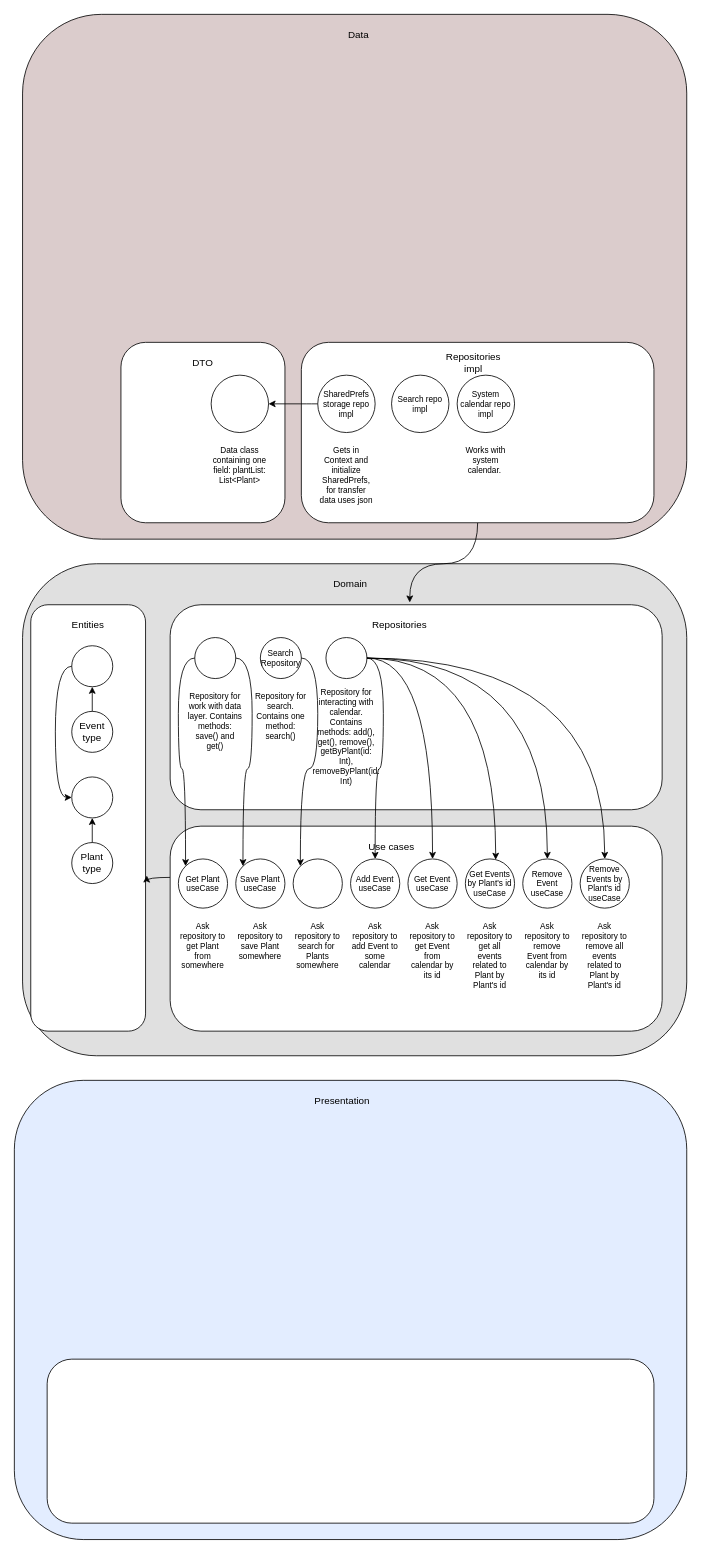
The diagram is 701 pixels wide and 1554 high, and some of its shapes have lost their labels. Each missing label, with the centre of its shape:
"Activities" belongs at pixel 350 1440.
"Calendar repository" belongs at pixel 346 658.
"Event" belongs at pixel 92 666.
"Plant" belongs at pixel 92 797.
"PlantListDto" belongs at pixel 239 403.
"Search Plant useCase" belongs at pixel 317 883.
"Storage repository" belongs at pixel 215 658.
